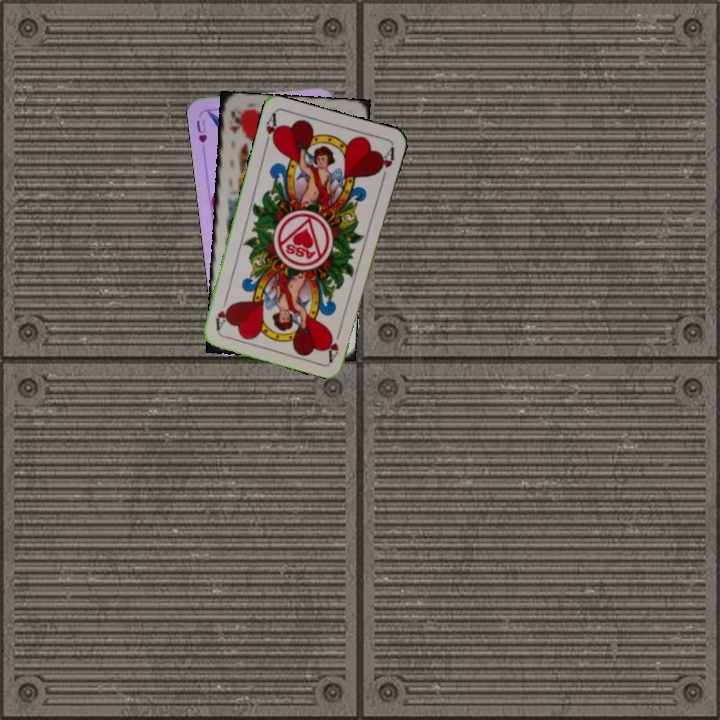HA: (261, 109, 282, 150), (324, 323, 344, 363)
HK: (226, 107, 243, 136)
HU: (192, 116, 209, 145)
